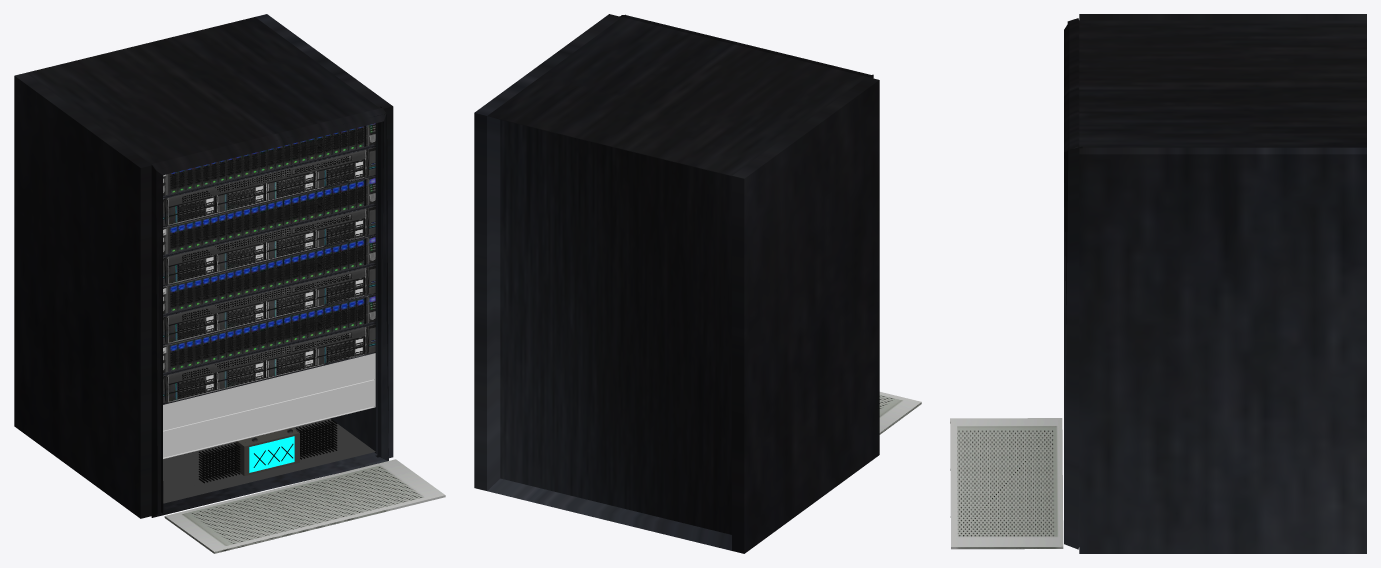
The model's file is ServerRack(s).fbx.
3 renders of one model, left to right at view 1: azimuth 30°, elevation 25°; view 2: azimuth 150°, elevation 25°; view 3: azimuth 270°, elevation 25°, orthographic. The views are drawn at different scales.
Visible parts, largest first — view 1: Server_Rack.004, Server_Rack.003, Server_Rack.002, Server_Rack.001, Server_Rack.005, Server_Rack.006, Server_Rack.007, Server_Rack.009, Server_Rack.008; view 2: Server_Rack.004, Server_Rack.001; view 3: Server_Rack.004, Server_Rack.001.
Boxes of the visible parts, bbox=[...] form: Server_Rack.004: bbox=[14, 14, 393, 518]; Server_Rack.003: bbox=[163, 147, 375, 404]; Server_Rack.002: bbox=[163, 123, 375, 375]; Server_Rack.001: bbox=[164, 459, 445, 553]; Server_Rack.005: bbox=[163, 353, 375, 458]; Server_Rack.006: bbox=[163, 418, 375, 503]; Server_Rack.007: bbox=[198, 419, 337, 483]; Server_Rack.009: bbox=[249, 436, 294, 472]; Server_Rack.008: bbox=[235, 427, 299, 475]; Server_Rack.004: bbox=[474, 14, 879, 553]; Server_Rack.001: bbox=[879, 392, 921, 434]; Server_Rack.004: bbox=[1064, 14, 1366, 553]; Server_Rack.001: bbox=[950, 418, 1063, 549].
Bounding box in the file's own units: 94.14 × 126 × 118.
Materials: 10 (4 with a texture image).
